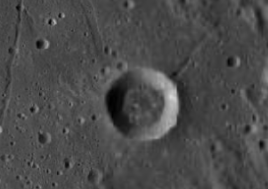crater: (81, 52, 197, 163), (23, 30, 69, 74), (213, 46, 246, 77)
